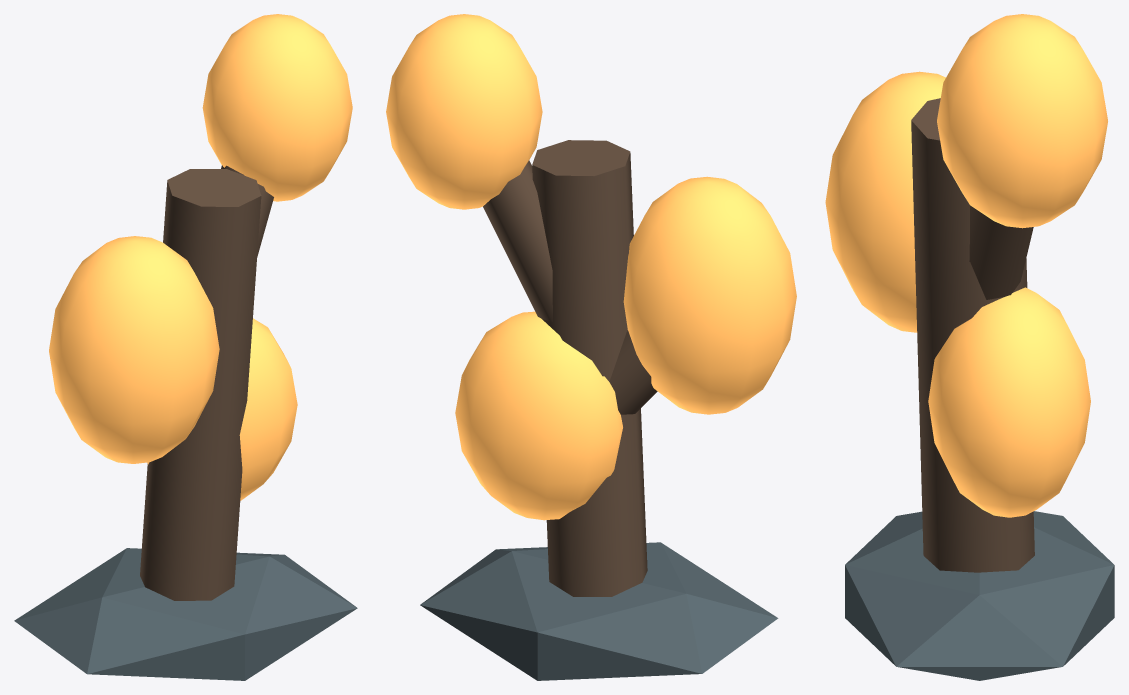
File: field-resin.glb
The picture shows the model from 3 angles, left to right: view 1: azimuth 30°, elevation 25°; view 2: azimuth 150°, elevation 25°; view 3: azimuth 270°, elevation 25°; orthographic projection. The views are drawn at different scales.
Visible parts, largest first — view 1: Vesper / field-resin; view 2: Vesper / field-resin; view 3: Vesper / field-resin.
Part boxes in pixels (x1=…): Vesper / field-resin: x1=14, y1=14, x2=357, y2=680; Vesper / field-resin: x1=386, y1=14, x2=796, y2=680; Vesper / field-resin: x1=825, y1=14, x2=1114, y2=680.
Size of the model in its own units: 1.01 by 1.74 by 0.6747.
